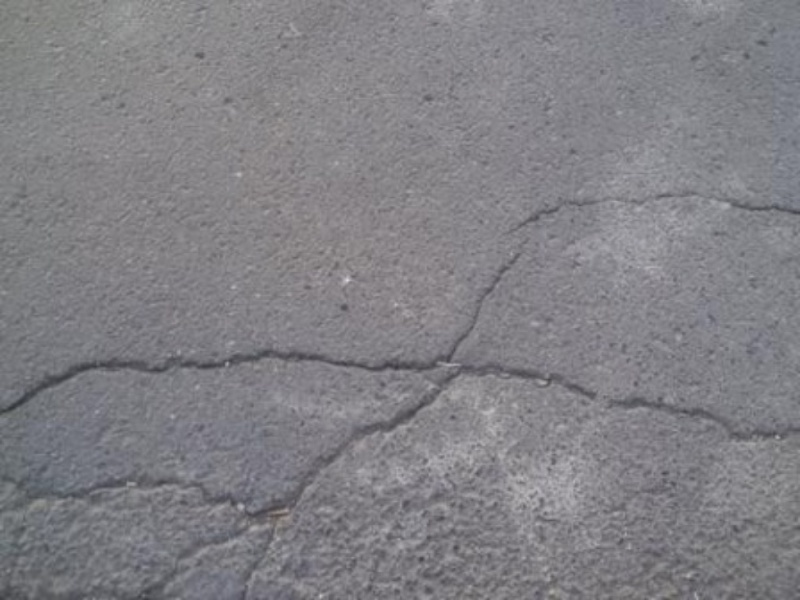crack: (6, 336, 800, 450), (455, 179, 795, 339), (4, 462, 341, 544)
